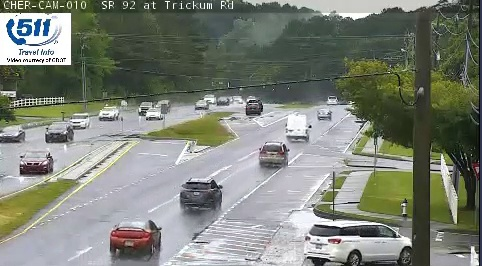car: (110, 220, 161, 250), (180, 179, 222, 207), (259, 142, 286, 164), (317, 108, 331, 121)
van: (286, 115, 308, 141)
